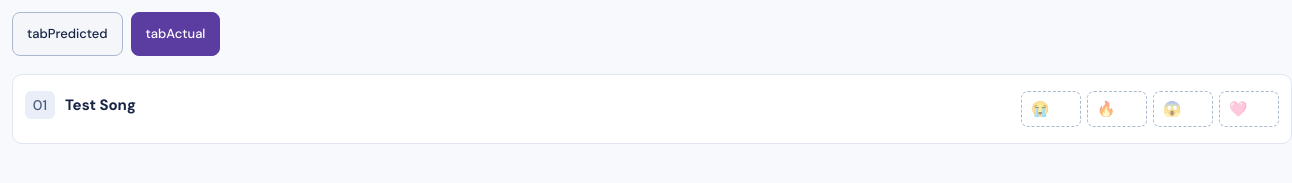
Test: SetlistSection › stored prediction + actual rows after the start: both tabs, Actual selected; tap Predicted swaps body
Check: the list is shown, box [12,74,1291,144]
Check: the text "duringHint" is not shown
Step 1. Click the tab "tabPredicted" → click(67, 34), box [12,12,123,56]
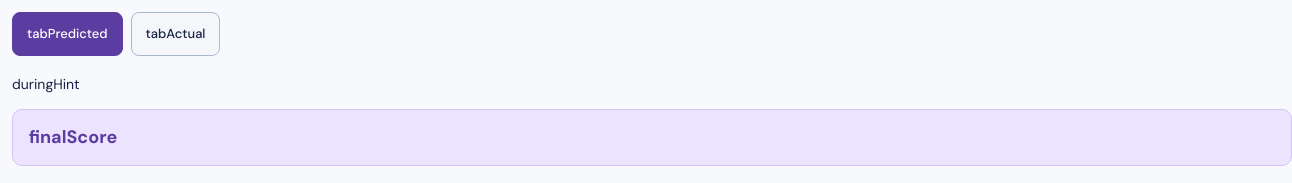
Check: the text "duringHint" is shown, box [12,75,80,93]
Check: the list is gone
